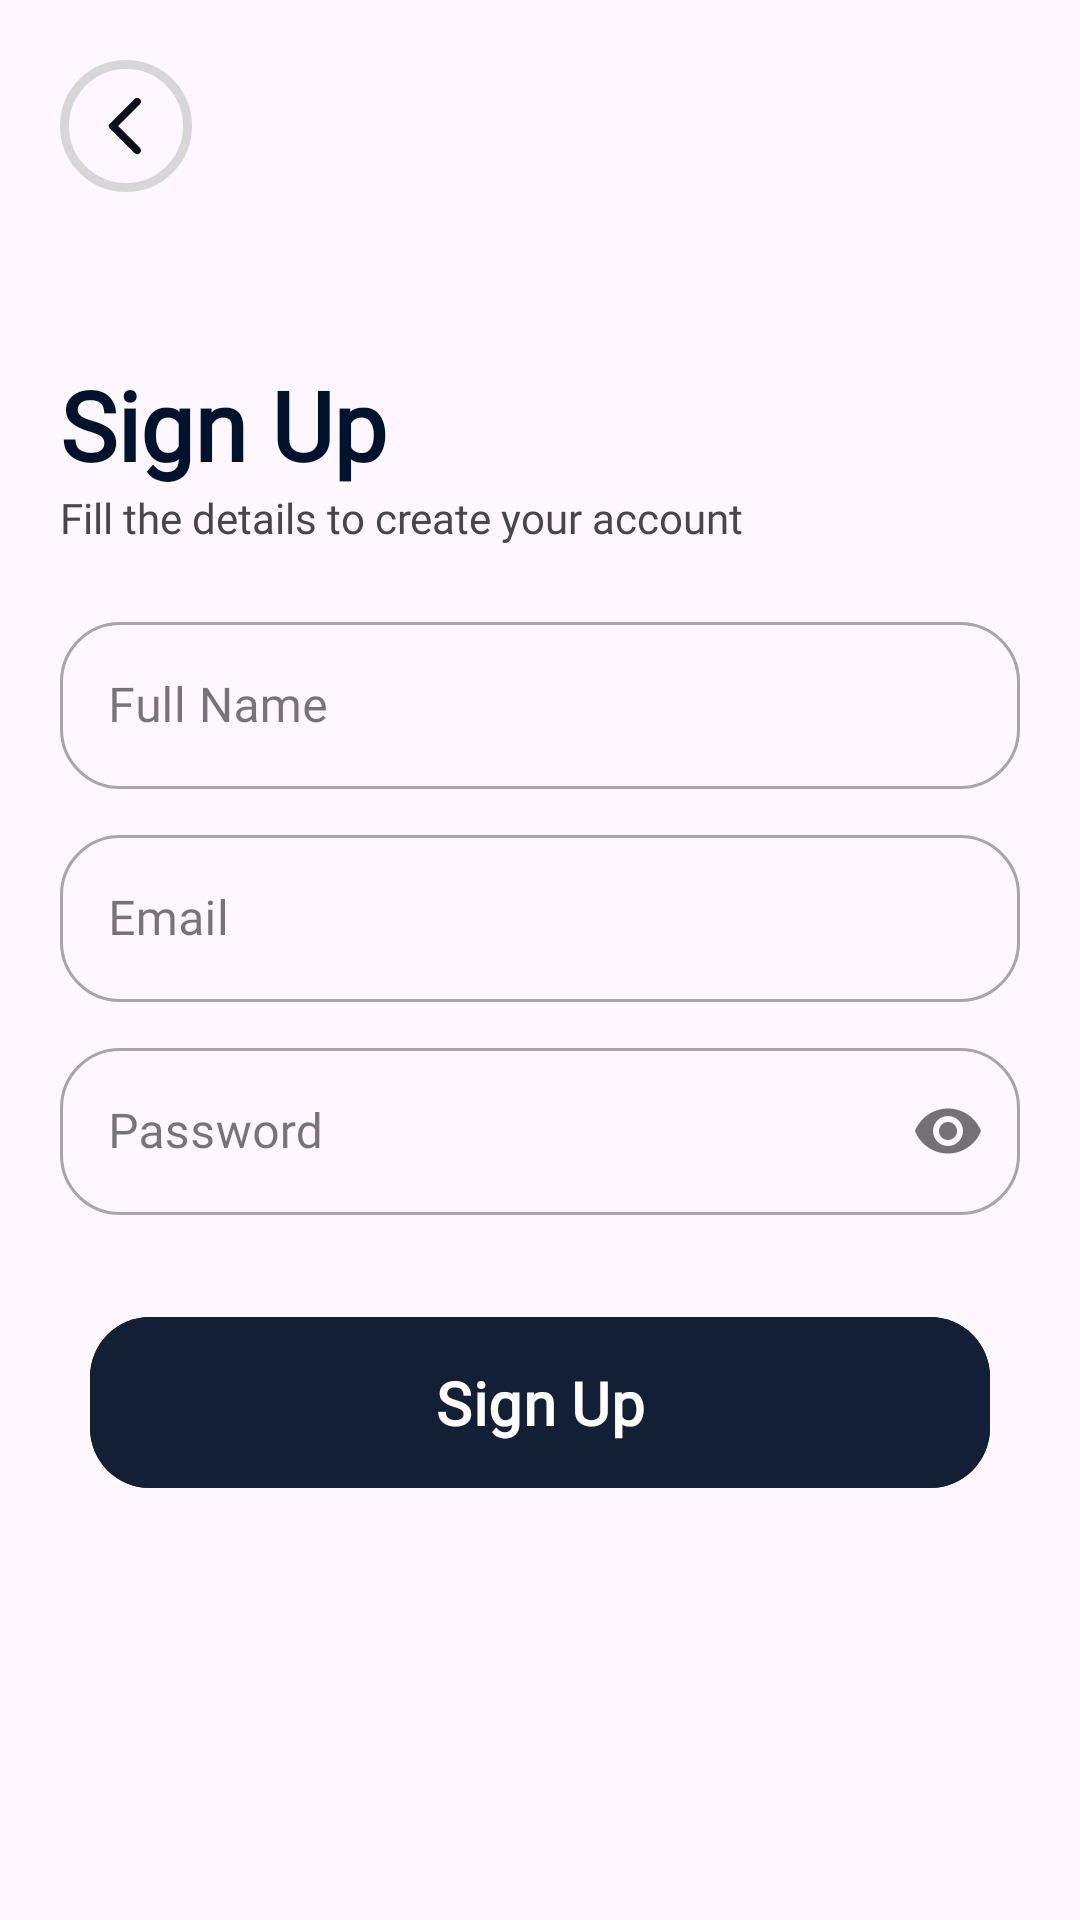

Screen size 1080*1920. Icon name, then its center in pixels as (x=x, y=y):
back arrow: (x=126, y=126)
